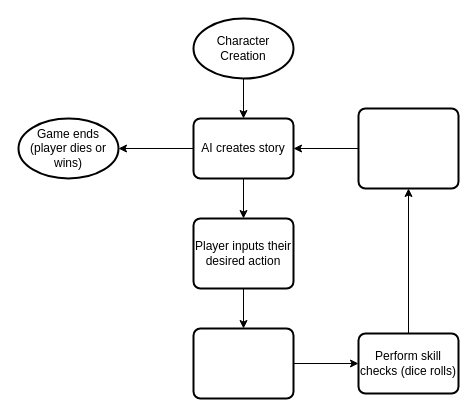
Some shapes in this 476 by 416 pixel diagram are drawn without their labels. The centre of each missing label's shape, as x and y in pixels:
Scan input for skill checks (AI or library): [243,363]
Send player's input with game data and dice rolls to AI Model: [408,148]
